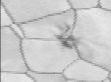good_void: (56, 24, 78, 50)
